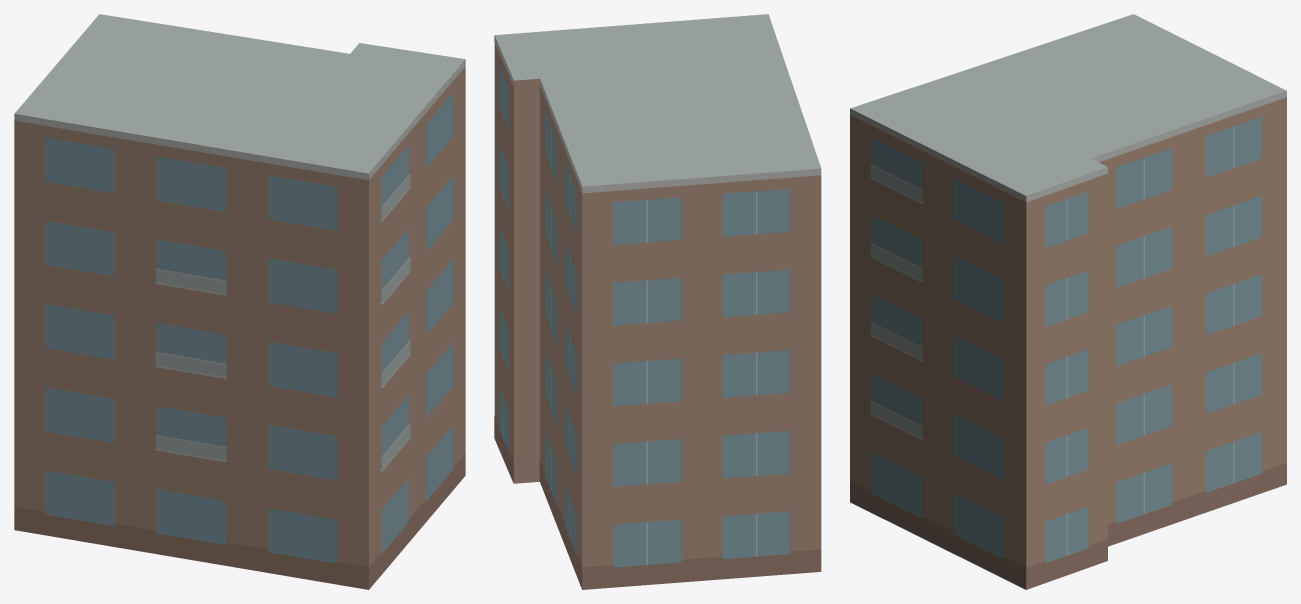
The model's file is survey-upis-32681876.glb.
3 views of the same model, side by side, from view 1: azimuth 30°, elevation 25°; view 2: azimuth 150°, elevation 25°; view 3: azimuth 270°, elevation 25° (orthographic). The views are drawn at different scales.
Parts seen in each view (by area): view 1: survey-upis-32681876.tmp; view 2: survey-upis-32681876.tmp; view 3: survey-upis-32681876.tmp.
Part boxes in pixels (x1,y1,x2,y2): survey-upis-32681876.tmp: (14,14,465,589); survey-upis-32681876.tmp: (494,14,821,589); survey-upis-32681876.tmp: (850,14,1286,589).
Size of the model in its own units: 14.78 by 14.9 by 14.98.
